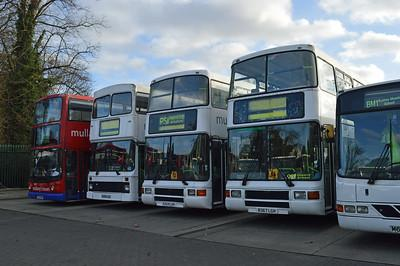bus: (224, 40, 333, 226), (140, 72, 223, 214), (333, 81, 400, 232), (23, 89, 88, 206), (84, 89, 149, 205)
